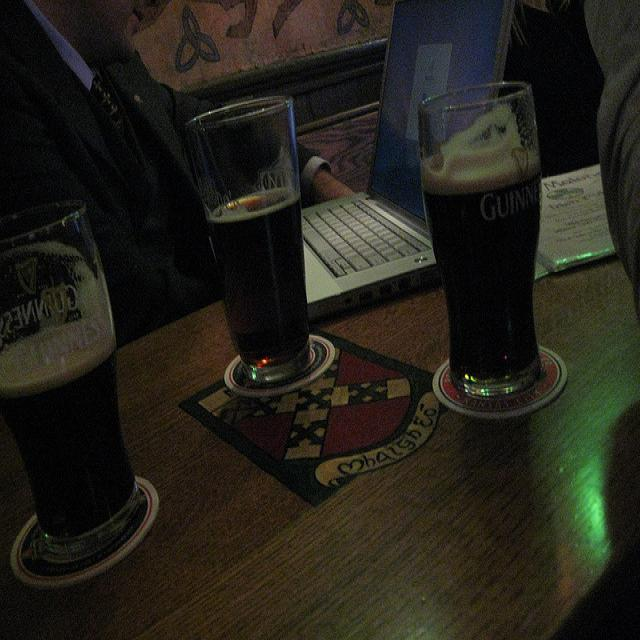Cup: (403, 87, 581, 416), (0, 187, 129, 627), (194, 66, 326, 382)
People: (0, 4, 198, 333)
Table: (0, 323, 640, 640)
